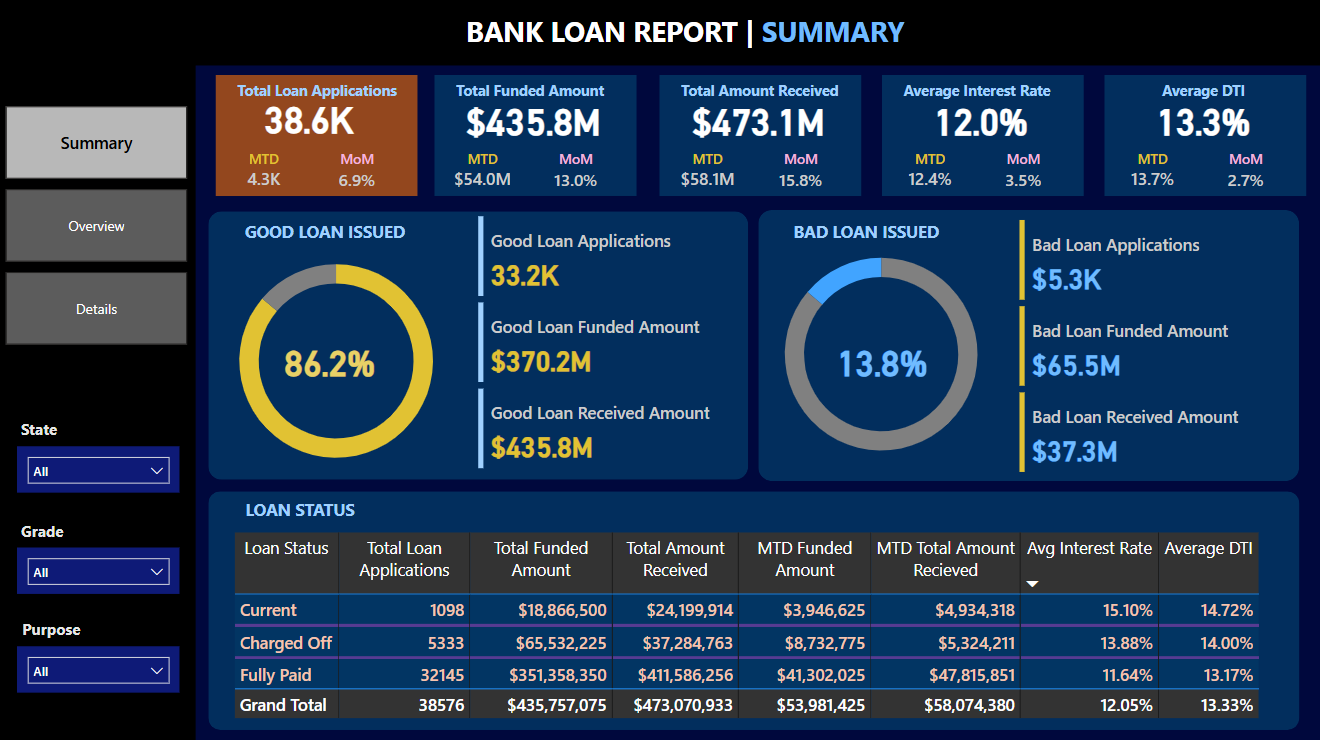

Layout of this report page (visuals, bound fields, positions):
{"tool":"powerbi","page":{"name":"Summary","canvas":[1280,720],"ordinal":0},"visuals":[{"type":"shape","box":[422.3,72.7,195,116.7],"z":0,"group":"g2"},{"type":"shape","box":[210.8,72.9,195,117],"z":0,"group":"g1"},{"type":"shape","box":[639.7,72.9,195,117],"z":0,"group":"g3"},{"type":"shape","box":[854.4,72.9,195,117],"z":0,"group":"g4"},{"type":"shape","box":[1069.1,72.9,195,117],"z":0,"group":"g5"},{"type":"shape","box":[203.9,474.1,1053.2,230.4],"z":0},{"type":"shape","box":[0,0,1280.3,63.2],"z":1000},{"type":"card","fields":{"Values":["bank_loan_data.Total Funded Amount"]},"box":[445.9,86.7,142.7,55.8],"z":1000,"group":"g2"},{"type":"card","fields":{"Values":["bank_loan_data.Total Amount Received"]},"box":[663.3,86.9,142.7,56],"z":1000,"group":"g3"},{"type":"card","fields":{"Values":["bank_loan_data.Average Interest Rate"]},"box":[878,86.9,142.7,56],"z":1000,"group":"g4"},{"type":"card","fields":{"Values":["bank_loan_data.Average DTI"]},"box":[1092.7,86.9,142.7,56],"z":1000,"group":"g5"},{"type":"card","fields":{"Values":["bank_loan_data.Total Loan Applications"]},"box":[233.4,87.4,134.5,52.4],"z":1000,"group":"g1"},{"type":"textbox","box":[437.9,72.4,174.8,29.5],"z":2000,"group":"g2"},{"type":"textbox","box":[226.4,72.6,174.8,29.6],"z":2000,"group":"g1"},{"type":"textbox","box":[655.3,72.6,174.8,29.6],"z":2000,"group":"g3"},{"type":"textbox","box":[870,72.6,174.8,29.6],"z":2000,"group":"g4"},{"type":"textbox","box":[1084.7,72.6,174.8,29.6],"z":2000,"group":"g5"},{"type":"shape","box":[204.4,204.4,521.8,259.6],"z":2000},{"type":"shape","box":[0,54.9,192,665.5],"z":3000},{"type":"card","title":"MTD","fields":{"Values":["bank_loan_data.MTD Funded Amount"]},"box":[428.2,143.8,80.7,45.6],"z":3000,"group":"g2"},{"type":"card","title":"MTD","fields":{"Values":["bank_loan_data.MTD Loan Applications"]},"box":[216.7,144.1,80.7,45.7],"z":3000,"group":"g1"},{"type":"card","title":"MTD","fields":{"Values":["bank_loan_data.MTD Total Amount Recieved"]},"box":[645.6,144.1,80.7,45.7],"z":3000,"group":"g3"},{"type":"card","title":"MTD","fields":{"Values":["bank_loan_data.MTD Average Interest Rate"]},"box":[860.3,144.1,80.7,45.7],"z":3000,"group":"g4"},{"type":"card","title":"MTD","fields":{"Values":["bank_loan_data.MTD Avg DTI"]},"box":[1075,144.1,80.7,45.7],"z":3000,"group":"g5"},{"type":"card","title":"MoM","fields":{"Values":["bank_loan_data.MoM Total Funded Amount"]},"box":[519.3,144,79.8,44.7],"z":4000,"group":"g2"},{"type":"card","title":"MoM","fields":{"Values":["bank_loan_data.MoM Loan Application"]},"box":[307.8,144.4,79.8,44.8],"z":4000,"group":"g1"},{"type":"card","title":"MoM","fields":{"Values":["bank_loan_data.MoM Total Recieved Amount"]},"box":[736.7,144.4,79.8,44.8],"z":4000,"group":"g3"},{"type":"card","title":"MoM","fields":{"Values":["bank_loan_data.MoM Avg Int rate"]},"box":[951.4,144.4,79.8,44.8],"z":4000,"group":"g4"},{"type":"card","title":"MoM","fields":{"Values":["bank_loan_data.MoM Average Interest Rate"]},"box":[1166.1,144.4,79.8,44.8],"z":4000,"group":"g5"},{"type":"card","fields":{"Values":["bank_loan_data.Good Loan %"]},"box":[250.1,321.4,142.6,55.1],"z":4000},{"type":"textbox","box":[234,207.1,174.8,33.6],"z":5000},{"type":"textbox","box":[447.6,7.3,442.4,45.7],"z":6000},{"type":"group","id":"g1","title":"Group 1","box":[210.8,72.6,194.5,117.5],"z":7000},{"type":"group","id":"g2","title":"Group 1","box":[422.3,72.4,195.4,117],"z":8000},{"type":"group","id":"g3","title":"Group 1","box":[639.7,72.6,195,117],"z":9000},{"type":"group","id":"g4","title":"Group 1","box":[854.4,72.6,195,117],"z":10000},{"type":"group","id":"g5","title":"Group 1","box":[1069.1,72.6,195,117],"z":11000},{"type":"shape","box":[734.7,202.7,522.4,261.8],"z":12000},{"type":"donutChart","fields":{"Category":["bank_loan_data.Good vs Bad Loan"],"Y":["bank_loan_data.Total Loan Applications"]},"box":[191.8,226.8,271.4,243.7],"z":13000},{"type":"cardVisual","fields":{"Data":["bank_loan_data.Good Loan Applications","bank_loan_data.Good Loan Funded Amount","bank_loan_data.Good Loan Received Amount"]},"box":[459.9,204.4,266.3,255.5],"z":14000},{"type":"donutChart","fields":{"Category":["bank_loan_data.Good vs Bad Loan"],"Y":["bank_loan_data.Total Loan Applications"]},"box":[717.8,220.8,271.4,242.5],"z":15000},{"type":"cardVisual","fields":{"Data":["bank_loan_data.Bad Loan Applications","bank_loan_data.Bad Loan Funded Amount","bank_loan_data.Bad Loan Received Amount"]},"box":[981.7,207.1,266.3,255.5],"z":16000},{"type":"card","fields":{"Values":["bank_loan_data.Bad Loan %"]},"box":[782.7,321.4,142.6,55.1],"z":17000},{"type":"tableEx","fields":{"Values":["bank_loan_data.loan_status","bank_loan_data.Total Loan Applications","bank_loan_data.Total Funded Amount","bank_loan_data.Total Amount Received","bank_loan_data.MTD Funded Amount","bank_loan_data.MTD Total Amount Recieved","bank_loan_data.Average Interest Rate","bank_loan_data.Average DTI"]},"box":[223.2,509.1,1023.1,195.4],"z":18000},{"type":"textbox","box":[763.7,207.5,181,33.8],"z":19000},{"type":"textbox","box":[230.4,475.3,181,33.8],"z":20000},{"type":"slicer","fields":{"Values":["bank_loan_data.address_state"]},"box":[19.3,430.7,156.8,44.6],"z":21000},{"type":"textbox","box":[18.1,399.3,56.7,31.4],"z":22000},{"type":"slicer","fields":{"Values":["bank_loan_data.grade"]},"box":[19.3,528.4,156.8,44.6],"z":23000},{"type":"textbox","box":[18.1,497.1,63.9,31.4],"z":24000},{"type":"textbox","box":[19.3,592.4,78.4,31.4],"z":25000},{"type":"slicer","fields":{"Values":["bank_loan_data.purpose"]},"box":[19.3,623.7,156.8,44.6],"z":26000}]}

Visuals, with their boxes in screenshot pixels (x1, y1, x2, y2), scaled from the page's 1280x720 canvas onto the 1320x740 screenshot:
shape: [left=435, top=75, right=637, bottom=195]
shape: [left=217, top=75, right=418, bottom=195]
shape: [left=660, top=75, right=861, bottom=195]
shape: [left=881, top=75, right=1082, bottom=195]
shape: [left=1103, top=75, right=1304, bottom=195]
shape: [left=210, top=487, right=1296, bottom=724]
shape: [left=0, top=0, right=1319, bottom=65]
card - bank_loan_data.Total Funded Amount: [left=460, top=89, right=607, bottom=146]
card - bank_loan_data.Total Amount Received: [left=684, top=89, right=831, bottom=147]
card - bank_loan_data.Average Interest Rate: [left=905, top=89, right=1053, bottom=147]
card - bank_loan_data.Average DTI: [left=1127, top=89, right=1274, bottom=147]
card - bank_loan_data.Total Loan Applications: [left=241, top=90, right=379, bottom=144]
textbox: [left=452, top=74, right=632, bottom=105]
textbox: [left=233, top=75, right=414, bottom=105]
textbox: [left=676, top=75, right=856, bottom=105]
textbox: [left=897, top=75, right=1077, bottom=105]
textbox: [left=1119, top=75, right=1299, bottom=105]
shape: [left=211, top=210, right=749, bottom=477]
shape: [left=0, top=56, right=198, bottom=739]
"MTD" card: [left=442, top=148, right=525, bottom=195]
"MTD" card: [left=223, top=148, right=307, bottom=195]
"MTD" card: [left=666, top=148, right=749, bottom=195]
"MTD" card: [left=887, top=148, right=970, bottom=195]
"MTD" card: [left=1109, top=148, right=1192, bottom=195]
"MoM" card: [left=536, top=148, right=618, bottom=194]
"MoM" card: [left=317, top=148, right=400, bottom=194]
"MoM" card: [left=760, top=148, right=842, bottom=194]
"MoM" card: [left=981, top=148, right=1063, bottom=194]
"MoM" card: [left=1203, top=148, right=1285, bottom=194]
card - bank_loan_data.Good Loan %: [left=258, top=330, right=405, bottom=387]
textbox: [left=241, top=213, right=422, bottom=247]
textbox: [left=462, top=8, right=918, bottom=54]
"Group 1" group: [left=217, top=75, right=418, bottom=195]
"Group 1" group: [left=435, top=74, right=637, bottom=195]
"Group 1" group: [left=660, top=75, right=861, bottom=195]
"Group 1" group: [left=881, top=75, right=1082, bottom=195]
"Group 1" group: [left=1103, top=75, right=1304, bottom=195]
shape: [left=758, top=208, right=1296, bottom=477]
donutChart - bank_loan_data.Good vs Bad Loan x bank_loan_data.Total Loan Applications: [left=198, top=233, right=478, bottom=484]
cardVisual - bank_loan_data.Good Loan Applications x bank_loan_data.Good Loan Funded Amount: [left=474, top=210, right=749, bottom=473]
donutChart - bank_loan_data.Good vs Bad Loan x bank_loan_data.Total Loan Applications: [left=740, top=227, right=1020, bottom=476]
cardVisual - bank_loan_data.Bad Loan Applications x bank_loan_data.Bad Loan Funded Amount: [left=1012, top=213, right=1287, bottom=475]
card - bank_loan_data.Bad Loan %: [left=807, top=330, right=954, bottom=387]
tableEx - bank_loan_data.loan_status x bank_loan_data.Total Loan Applications: [left=230, top=523, right=1285, bottom=724]
textbox: [left=788, top=213, right=974, bottom=248]
textbox: [left=238, top=489, right=424, bottom=523]
slicer - bank_loan_data.address_state: [left=20, top=443, right=182, bottom=489]
textbox: [left=19, top=410, right=77, bottom=443]
slicer - bank_loan_data.grade: [left=20, top=543, right=182, bottom=589]
textbox: [left=19, top=511, right=85, bottom=543]
textbox: [left=20, top=609, right=101, bottom=641]
slicer - bank_loan_data.purpose: [left=20, top=641, right=182, bottom=687]
